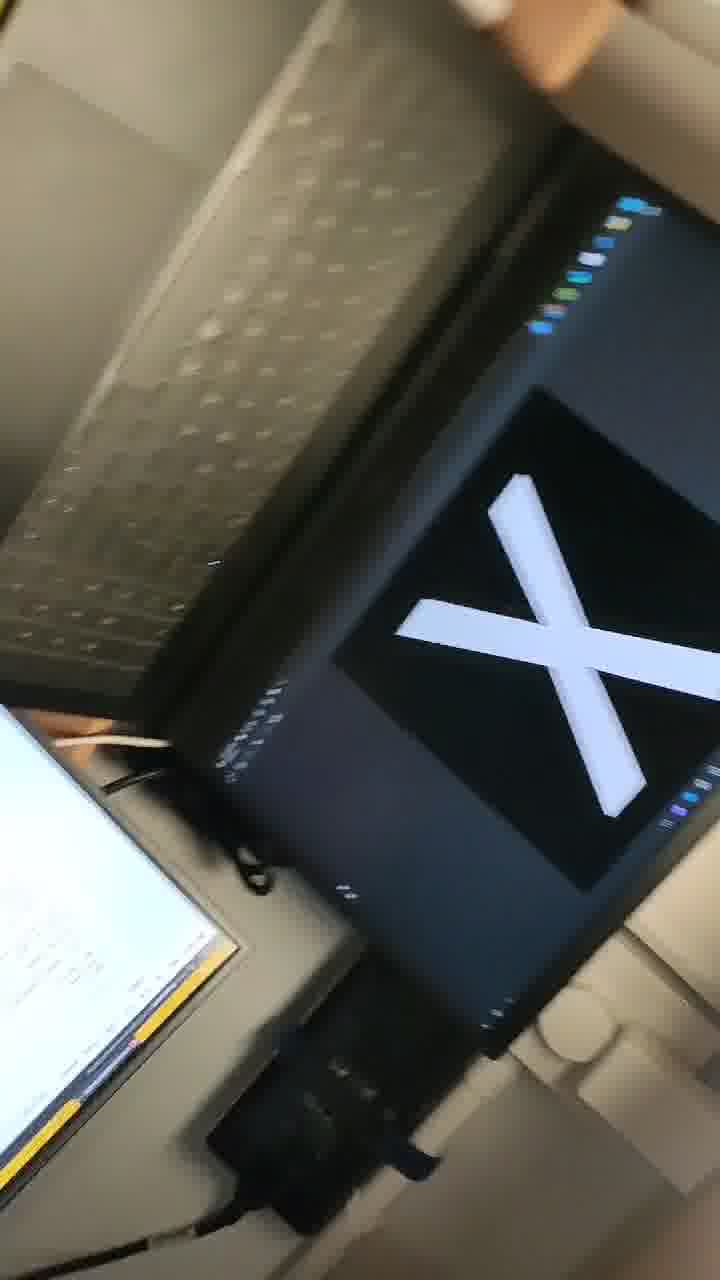X: (354, 415, 720, 899)
